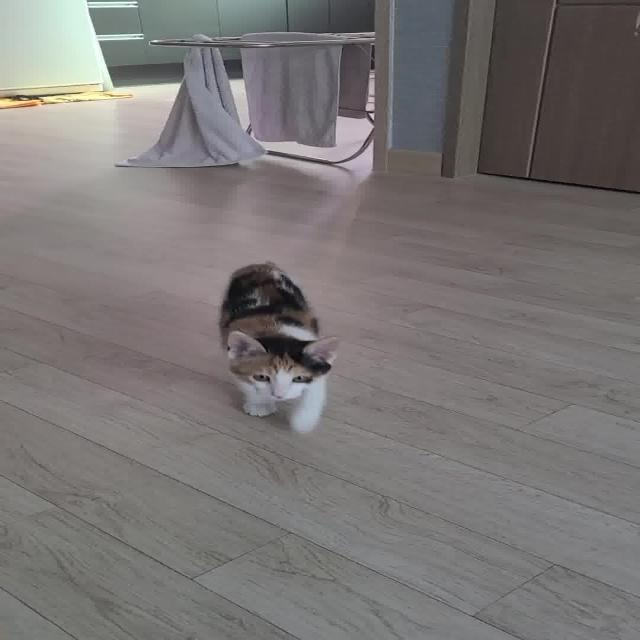cat: (112, 246, 418, 460)
